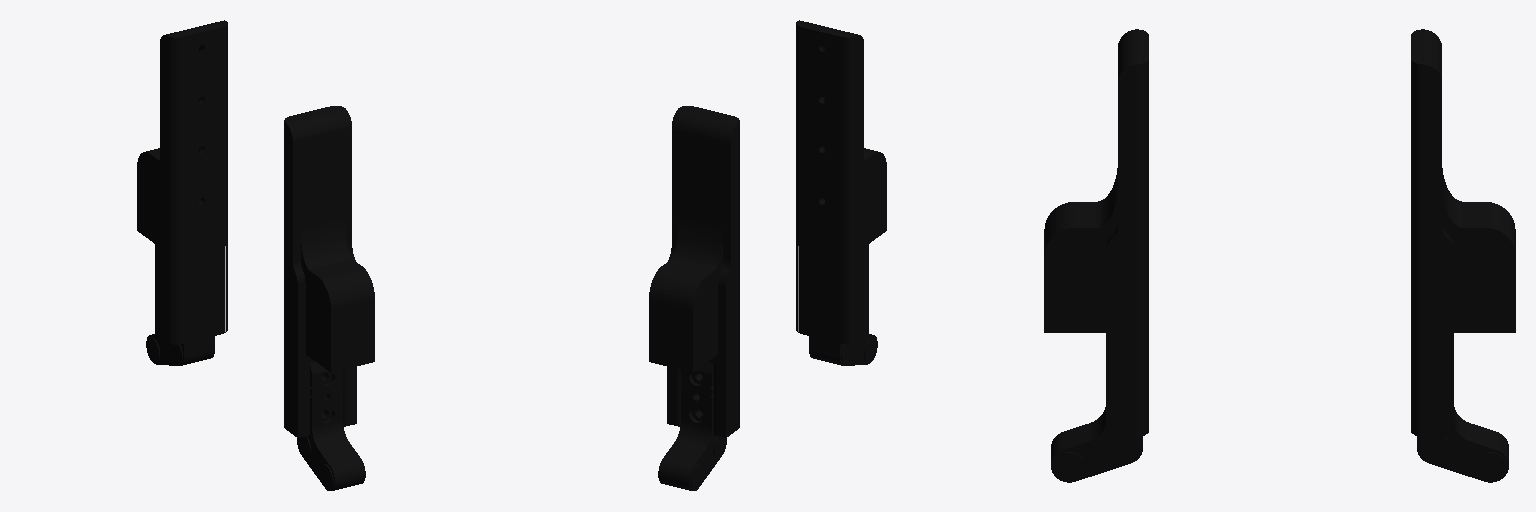
The robot description file, URDF, robot "robotiq_arg2f_85_model":
<?xml version="1.0" ?>
<!-- =================================================================================== -->
<!-- |    This document was autogenerated by xacro from robotiq_arg2f_85_model.xacro   | -->
<!-- |    EDITING THIS FILE BY HAND IS NOT RECOMMENDED                                 | -->
<!-- =================================================================================== -->
<robot name="robotiq_arg2f_85_model" xmlns:xacro="http://ros.org/wiki/xacro">
  <link name="gripper_robotiq_arg2f_base_link">
    <inertial>
      <origin rpy="0 0 0" xyz="8.625E-08 -4.6583E-06 0.03145"/>
      <mass value="0.22652"/>
      <inertia ixx="0.00020005" ixy="-4.2442E-10" ixz="-2.9069E-10" iyy="0.00017832" iyz="-3.4402E-08" izz="0.00013478"/>
    </inertial>
    <visual>
      <origin rpy="0 0 0" xyz="0 0 0"/>
      <geometry>
        <mesh filename="package://robotiq_2f_85_gripper_visualization/meshes/visual/robotiq_arg2f_85_base_link.dae" scale="0.001 0.001 0.001"/>
      </geometry>
      <material name="">
        <color rgba="0.1 0.1 0.1 1"/>
      </material>
    </visual>
    <collision>
      <origin rpy="0 0 0" xyz="0 0 0"/>
      <geometry>
        <mesh filename="package://robotiq_2f_85_gripper_visualization/meshes/collision/robotiq_arg2f_base_link.stl"/>
      </geometry>
    </collision>
  </link>
  <link name="gripper_left_outer_knuckle">
    <!--<inertial>
        <origin xyz="-0.000200000000003065 0.0199435877845359 0.0292245259211331" rpy="0 0 0" />
        <mass value="0.00853198276973456" />
        <inertia ixx="2.89328108496468E-06" ixy="-1.57935047237397E-19" ixz="-1.93980378593255E-19" iyy="1.86719750325683E-06" iyz="-1.21858577871576E-06" izz="1.21905238907251E-06" />
        </inertial> -->
    <visual>
      <origin rpy="0 0 0" xyz="0 0 0"/>
      <geometry>
        <mesh filename="package://robotiq_2f_85_gripper_visualization/meshes/visual/robotiq_arg2f_85_outer_knuckle.dae" scale="0.001 0.001 0.001"/>
      </geometry>
      <material name="">
        <color rgba="0.792156862745098 0.819607843137255 0.933333333333333 1"/>
      </material>
    </visual>
    <collision>
      <origin rpy="0 0 0" xyz="0 0 0"/>
      <geometry>
        <mesh filename="package://robotiq_2f_85_gripper_visualization/meshes/collision/robotiq_arg2f_85_outer_knuckle.dae" scale="0.001 0.001 0.001"/>
      </geometry>
    </collision>
  </link>
  <link name="gripper_left_outer_finger">
    <!--<inertial>
        <origin xyz="0.00030115855001899 0.0373907951953854 -0.0208027427000385" rpy="0 0 0" />
        <mass value="0.022614240507152" />
        <inertia ixx="1.52518312458174E-05" ixy="9.76583423954399E-10" ixz="-5.43838577022588E-10" iyy="6.17694243867776E-06" iyz="6.78636130740228E-06" izz="1.16494917907219E-05" />
        </inertial> -->
    <visual>
      <origin rpy="0 0 0" xyz="0 0 0"/>
      <geometry>
        <mesh filename="package://robotiq_2f_85_gripper_visualization/meshes/visual/robotiq_arg2f_85_outer_finger.dae" scale="0.001 0.001 0.001"/>
      </geometry>
      <material name="">
        <color rgba="0.1 0.1 0.1 1"/>
      </material>
    </visual>
    <collision>
      <origin rpy="0 0 0" xyz="0 0 0"/>
      <geometry>
        <mesh filename="package://robotiq_2f_85_gripper_visualization/meshes/collision/robotiq_arg2f_85_outer_finger.dae" scale="0.001 0.001 0.001"/>
      </geometry>
    </collision>
  </link>
  <link name="gripper_left_inner_finger">
    <!--<inertial>
        <origin xyz="0.000299999999999317 0.0160078233491243 -0.0136945669206257" rpy="0 0 0" />
        <mass value="0.0104003125914103" />
        <inertia ixx="2.71909453810972E-06" ixy="1.35402465472579E-21" ixz="-7.1817349065269E-22" iyy="7.69100314106116E-07" iyz="6.74715432769696E-07" izz="2.30315190420171E-06" />
        </inertial> -->
    <visual>
      <origin rpy="0 0 0" xyz="0 0 0"/>
      <geometry>
        <mesh filename="package://robotiq_2f_85_gripper_visualization/meshes/visual/robotiq_arg2f_85_inner_finger.dae" scale="0.001 0.001 0.001"/>
      </geometry>
      <material name="">
        <color rgba="0.1 0.1 0.1 1"/>
      </material>
    </visual>
    <collision>
      <origin rpy="0 0 0" xyz="0 0 0"/>
      <geometry>
        <mesh filename="package://robotiq_2f_85_gripper_visualization/meshes/collision/robotiq_arg2f_85_inner_finger.dae" scale="0.001 0.001 0.001"/>
      </geometry>
    </collision>
  </link>
  <link name="gripper_left_inner_finger_pad">
    <visual>
      <origin rpy="0 0 0" xyz="0 0 0"/>
      <geometry>
        <box size="0.022 0.00635 0.0375"/>
      </geometry>
      <material name="">
        <color rgba="0.9 0.9 0.9 1"/>
      </material>
    </visual>
    <collision>
      <origin rpy="0 0 0" xyz="0 0 0"/>
      <geometry>
        <box size="0.022 0.00635 0.0375"/>
      </geometry>
      <material name="">
        <color rgba="0.9 0.0 0.0 1"/>
      </material>
    </collision>
  </link>
  <link name="gripper_left_inner_knuckle">
    <!--<inertial>
        <origin xyz="0.000123011831763771 0.0507850843201817 0.00103968640075166" rpy="0 0 0" />
       <mass value="0.0271177346495152" />
        <inertia ixx="2.61910379223783E-05" ixy="-2.43616858946494E-07" ixz="-6.37789906117123E-09" iyy="2.8270243746167E-06" iyz="-5.37200748039765E-07" izz="2.83695868220296E-05" />
        </inertial> -->
    <visual>
      <origin rpy="0 0 0" xyz="0 0 0"/>
      <geometry>
        <mesh filename="package://robotiq_2f_85_gripper_visualization/meshes/visual/robotiq_arg2f_85_inner_knuckle.dae" scale="0.001 0.001 0.001"/>
      </geometry>
      <material name="">
        <color rgba="0.1 0.1 0.1 1"/>
      </material>
    </visual>
    <collision>
      <origin rpy="0 0 0" xyz="0 0 0"/>
      <geometry>
        <mesh filename="package://robotiq_2f_85_gripper_visualization/meshes/collision/robotiq_arg2f_85_inner_knuckle.dae" scale="0.001 0.001 0.001"/>
      </geometry>
    </collision>
  </link>
  <link name="gripper_right_outer_knuckle">
    <!--<inertial>
        <origin xyz="-0.000200000000003065 0.0199435877845359 0.0292245259211331" rpy="0 0 0" />
        <mass value="0.00853198276973456" />
        <inertia ixx="2.89328108496468E-06" ixy="-1.57935047237397E-19" ixz="-1.93980378593255E-19" iyy="1.86719750325683E-06" iyz="-1.21858577871576E-06" izz="1.21905238907251E-06" />
        </inertial> -->
    <visual>
      <origin rpy="0 0 0" xyz="0 0 0"/>
      <geometry>
        <mesh filename="package://robotiq_2f_85_gripper_visualization/meshes/visual/robotiq_arg2f_85_outer_knuckle.dae" scale="0.001 0.001 0.001"/>
      </geometry>
      <material name="">
        <color rgba="0.792156862745098 0.819607843137255 0.933333333333333 1"/>
      </material>
    </visual>
    <collision>
      <origin rpy="0 0 0" xyz="0 0 0"/>
      <geometry>
        <mesh filename="package://robotiq_2f_85_gripper_visualization/meshes/collision/robotiq_arg2f_85_outer_knuckle.dae" scale="0.001 0.001 0.001"/>
      </geometry>
    </collision>
  </link>
  <link name="gripper_right_outer_finger">
    <!--<inertial>
        <origin xyz="0.00030115855001899 0.0373907951953854 -0.0208027427000385" rpy="0 0 0" />
        <mass value="0.022614240507152" />
        <inertia ixx="1.52518312458174E-05" ixy="9.76583423954399E-10" ixz="-5.43838577022588E-10" iyy="6.17694243867776E-06" iyz="6.78636130740228E-06" izz="1.16494917907219E-05" />
        </inertial> -->
    <visual>
      <origin rpy="0 0 0" xyz="0 0 0"/>
      <geometry>
        <mesh filename="package://robotiq_2f_85_gripper_visualization/meshes/visual/robotiq_arg2f_85_outer_finger.dae" scale="0.001 0.001 0.001"/>
      </geometry>
      <material name="">
        <color rgba="0.1 0.1 0.1 1"/>
      </material>
    </visual>
    <collision>
      <origin rpy="0 0 0" xyz="0 0 0"/>
      <geometry>
        <mesh filename="package://robotiq_2f_85_gripper_visualization/meshes/collision/robotiq_arg2f_85_outer_finger.dae" scale="0.001 0.001 0.001"/>
      </geometry>
    </collision>
  </link>
  <link name="gripper_right_inner_finger">
    <!--<inertial>
        <origin xyz="0.000299999999999317 0.0160078233491243 -0.0136945669206257" rpy="0 0 0" />
        <mass value="0.0104003125914103" />
        <inertia ixx="2.71909453810972E-06" ixy="1.35402465472579E-21" ixz="-7.1817349065269E-22" iyy="7.69100314106116E-07" iyz="6.74715432769696E-07" izz="2.30315190420171E-06" />
        </inertial> -->
    <visual>
      <origin rpy="0 0 0" xyz="0 0 0"/>
      <geometry>
        <mesh filename="package://robotiq_2f_85_gripper_visualization/meshes/visual/robotiq_arg2f_85_inner_finger.dae" scale="0.001 0.001 0.001"/>
      </geometry>
      <material name="">
        <color rgba="0.1 0.1 0.1 1"/>
      </material>
    </visual>
    <collision>
      <origin rpy="0 0 0" xyz="0 0 0"/>
      <geometry>
        <mesh filename="package://robotiq_2f_85_gripper_visualization/meshes/collision/robotiq_arg2f_85_inner_finger.dae" scale="0.001 0.001 0.001"/>
      </geometry>
    </collision>
  </link>
  <link name="gripper_right_inner_finger_pad">
    <visual>
      <origin rpy="0 0 0" xyz="0 0 0"/>
      <geometry>
        <box size="0.022 0.00635 0.0375"/>
      </geometry>
      <material name="">
        <color rgba="0.9 0.9 0.9 1"/>
      </material>
    </visual>
    <collision>
      <origin rpy="0 0 0" xyz="0 0 0"/>
      <geometry>
        <box size="0.022 0.00635 0.0375"/>
      </geometry>
      <material name="">
        <color rgba="0.9 0.0 0.0 1"/>
      </material>
    </collision>
  </link>
  <link name="gripper_right_inner_knuckle">
    <!--<inertial>
        <origin xyz="0.000123011831763771 0.0507850843201817 0.00103968640075166" rpy="0 0 0" />
       <mass value="0.0271177346495152" />
        <inertia ixx="2.61910379223783E-05" ixy="-2.43616858946494E-07" ixz="-6.37789906117123E-09" iyy="2.8270243746167E-06" iyz="-5.37200748039765E-07" izz="2.83695868220296E-05" />
        </inertial> -->
    <visual>
      <origin rpy="0 0 0" xyz="0 0 0"/>
      <geometry>
        <mesh filename="package://robotiq_2f_85_gripper_visualization/meshes/visual/robotiq_arg2f_85_inner_knuckle.dae" scale="0.001 0.001 0.001"/>
      </geometry>
      <material name="">
        <color rgba="0.1 0.1 0.1 1"/>
      </material>
    </visual>
    <collision>
      <origin rpy="0 0 0" xyz="0 0 0"/>
      <geometry>
        <mesh filename="package://robotiq_2f_85_gripper_visualization/meshes/collision/robotiq_arg2f_85_inner_knuckle.dae" scale="0.001 0.001 0.001"/>
      </geometry>
    </collision>
  </link>
  <joint name="gripper_finger_joint" type="revolute">
    <origin rpy="0 0 3.14159265359" xyz="0 -0.0306011 0.054904"/>
    <parent link="gripper_robotiq_arg2f_base_link"/>
    <child link="gripper_left_outer_knuckle"/>
    <axis xyz="1 0 0"/>
    <limit effort="1000" lower="0" upper="0.8" velocity="2.0"/>
  </joint>
  <joint name="gripper_left_outer_finger_joint" type="fixed">
    <origin rpy="0 0 0" xyz="0 0.0315 -0.0041"/>
    <parent link="gripper_left_outer_knuckle"/>
    <child link="gripper_left_outer_finger"/>
    <axis xyz="1 0 0"/>
  </joint>
  <joint name="gripper_left_inner_knuckle_joint" type="revolute">
    <!-- <origin xyz="0 ${reflect * -0.0127} 0.06142" rpy="${pi / 2 + .725} 0 ${(reflect - 1) * pi / 2}" /> -->
    <origin rpy="0 0 3.14159265359" xyz="0 -0.0127 0.06142"/>
    <parent link="gripper_robotiq_arg2f_base_link"/>
    <child link="gripper_left_inner_knuckle"/>
    <axis xyz="1 0 0"/>
    <limit effort="1000" lower="0" upper="0.8757" velocity="2.0"/>
    <mimic joint="gripper_finger_joint" multiplier="1" offset="0"/>
  </joint>
  <joint name="gripper_left_inner_finger_joint" type="revolute">
    <origin rpy="0 0 0" xyz="0 0.0061 0.0471"/>
    <parent link="gripper_left_outer_finger"/>
    <child link="gripper_left_inner_finger"/>
    <axis xyz="1 0 0"/>
    <limit effort="1000" lower="0" upper="0.8757" velocity="2.0"/>
    <mimic joint="gripper_finger_joint" multiplier="-1" offset="0"/>
  </joint>
  <joint name="gripper_left_inner_finger_pad_joint" type="fixed">
    <origin rpy="0 0 0" xyz="0 -0.0220203446692936 0.03242"/>
    <parent link="gripper_left_inner_finger"/>
    <child link="gripper_left_inner_finger_pad"/>
    <axis xyz="0 0 1"/>
  </joint>
  <joint name="gripper_right_outer_knuckle_joint" type="revolute">
    <origin rpy="0 0 0" xyz="0 0.0306011 0.054904"/>
    <parent link="gripper_robotiq_arg2f_base_link"/>
    <child link="gripper_right_outer_knuckle"/>
    <axis xyz="1 0 0"/>
    <limit effort="1000" lower="0" upper="0.81" velocity="2.0"/>
    <mimic joint="gripper_finger_joint" multiplier="1" offset="0"/>
  </joint>
  <joint name="gripper_right_outer_finger_joint" type="fixed">
    <origin rpy="0 0 0" xyz="0 0.0315 -0.0041"/>
    <parent link="gripper_right_outer_knuckle"/>
    <child link="gripper_right_outer_finger"/>
    <axis xyz="1 0 0"/>
  </joint>
  <joint name="gripper_right_inner_knuckle_joint" type="revolute">
    <!-- <origin xyz="0 ${reflect * -0.0127} 0.06142" rpy="${pi / 2 + .725} 0 ${(reflect - 1) * pi / 2}" /> -->
    <origin rpy="0 0 0.0" xyz="0 0.0127 0.06142"/>
    <parent link="gripper_robotiq_arg2f_base_link"/>
    <child link="gripper_right_inner_knuckle"/>
    <axis xyz="1 0 0"/>
    <limit effort="1000" lower="0" upper="0.8757" velocity="2.0"/>
    <mimic joint="gripper_finger_joint" multiplier="1" offset="0"/>
  </joint>
  <joint name="gripper_right_inner_finger_joint" type="revolute">
    <origin rpy="0 0 0" xyz="0 0.0061 0.0471"/>
    <parent link="gripper_right_outer_finger"/>
    <child link="gripper_right_inner_finger"/>
    <axis xyz="1 0 0"/>
    <limit effort="1000" lower="0" upper="0.8757" velocity="2.0"/>
    <mimic joint="gripper_finger_joint" multiplier="-1" offset="0"/>
  </joint>
  <joint name="gripper_right_inner_finger_pad_joint" type="fixed">
    <origin rpy="0 0 0" xyz="0 -0.0220203446692936 0.03242"/>
    <parent link="gripper_right_inner_finger"/>
    <child link="gripper_right_inner_finger_pad"/>
    <axis xyz="0 0 1"/>
  </joint>
  <transmission name="gripper_finger_joint_trans">
    <type>transmission_interface/SimpleTransmission</type>
    <joint name="gripper_finger_joint">
      <hardwareInterface>PositionJointInterface</hardwareInterface>
    </joint>
    <actuator name="gripper_finger_joint_motor">
      <mechanicalReduction>1</mechanicalReduction>
    </actuator>
  </transmission>
</robot>

--- Render facts (derived) ---
The picture shows the robot from 3 angles, left to right: view 1: azimuth 30°, elevation 25°; view 2: azimuth 150°, elevation 25°; view 3: azimuth 270°, elevation 25°; orthographic projection.
Model robotiq_arg2f_85_model with 11 links and 10 joints (6 revolute, 4 fixed), rooted at gripper_robotiq_arg2f_base_link, posed all joints at 0.
Visible links, largest first — view 1: gripper_left_inner_finger, gripper_right_inner_finger; view 2: gripper_right_inner_finger, gripper_left_inner_finger; view 3: gripper_left_inner_finger, gripper_right_inner_finger.
Boxes of the visible links, x1,y1,x2,y2 form: gripper_left_inner_finger: [284, 106, 374, 490]; gripper_right_inner_finger: [137, 20, 227, 365]; gripper_right_inner_finger: [649, 106, 739, 490]; gripper_left_inner_finger: [796, 20, 886, 365]; gripper_left_inner_finger: [1044, 29, 1148, 482]; gripper_right_inner_finger: [1411, 29, 1515, 482].
Size in the robot's own frame: 0.027 by 0.1526 by 0.1525 metres.
Meshes: 5 distinct files referenced, 2 mesh visuals loaded (1 Collada DAE); not drawn: 7 (reference not matched to a file when rendering).